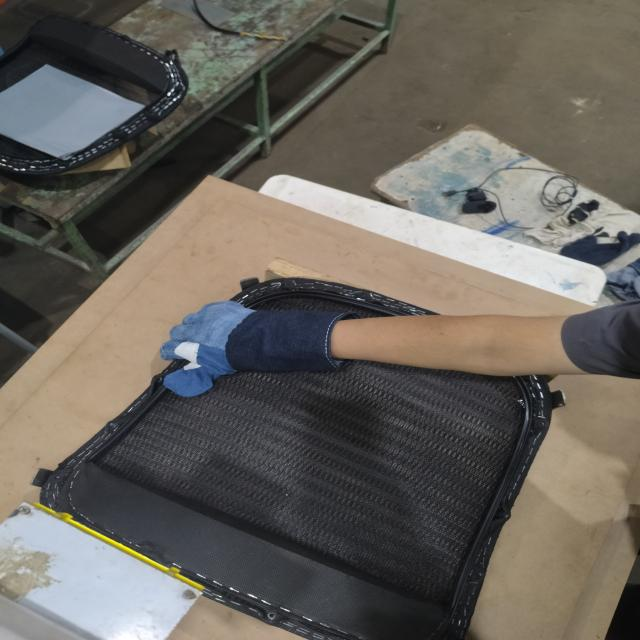Gloves-Detection: (159, 300, 342, 394)
